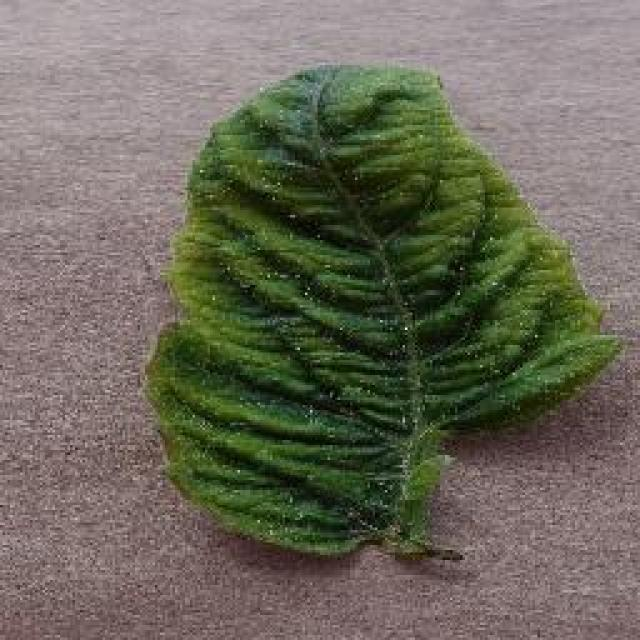Tomato yellow virus leaf: (140, 57, 625, 555)
